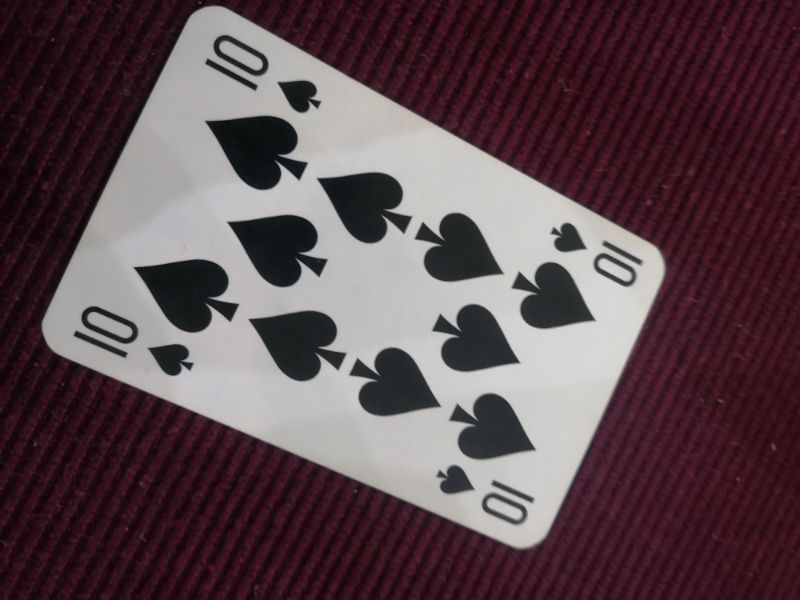Ts: (200, 29, 325, 115), (68, 301, 199, 381), (549, 218, 646, 290), (433, 461, 537, 528)
